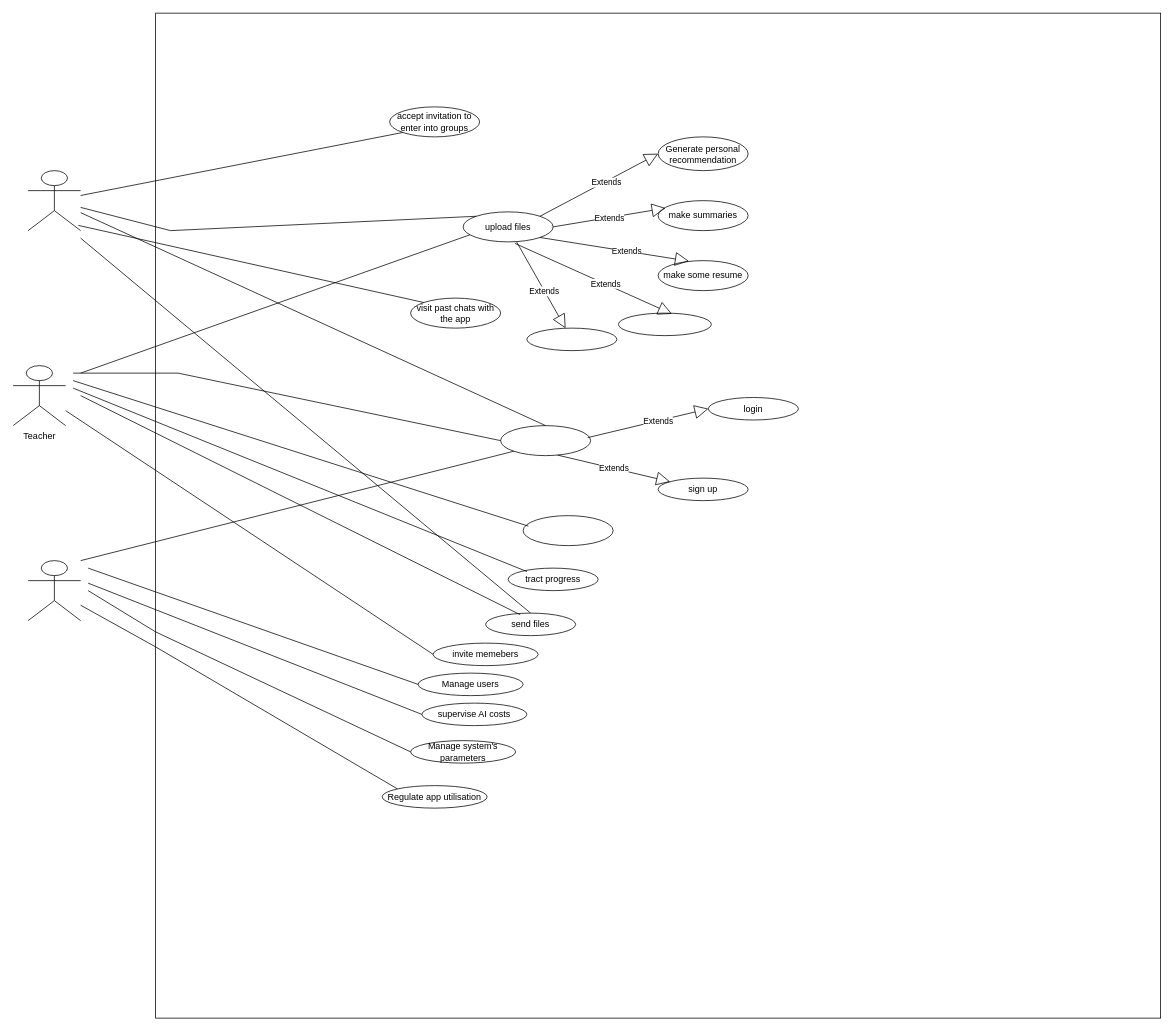
This 1174x1031 diagram has some shape labels left out. The shapes that lost their labels are listed below. From the top down, each one's centre as x and y in pixels, then its label:
At (x=54, y=200): "User".
At (x=571, y=339): "chat questions".
At (x=664, y=324): "generate summaries".
At (x=545, y=440): "Authentification".
At (x=567, y=530): "consult answers to questions/MCQs".
At (x=54, y=590): "Administrator".
